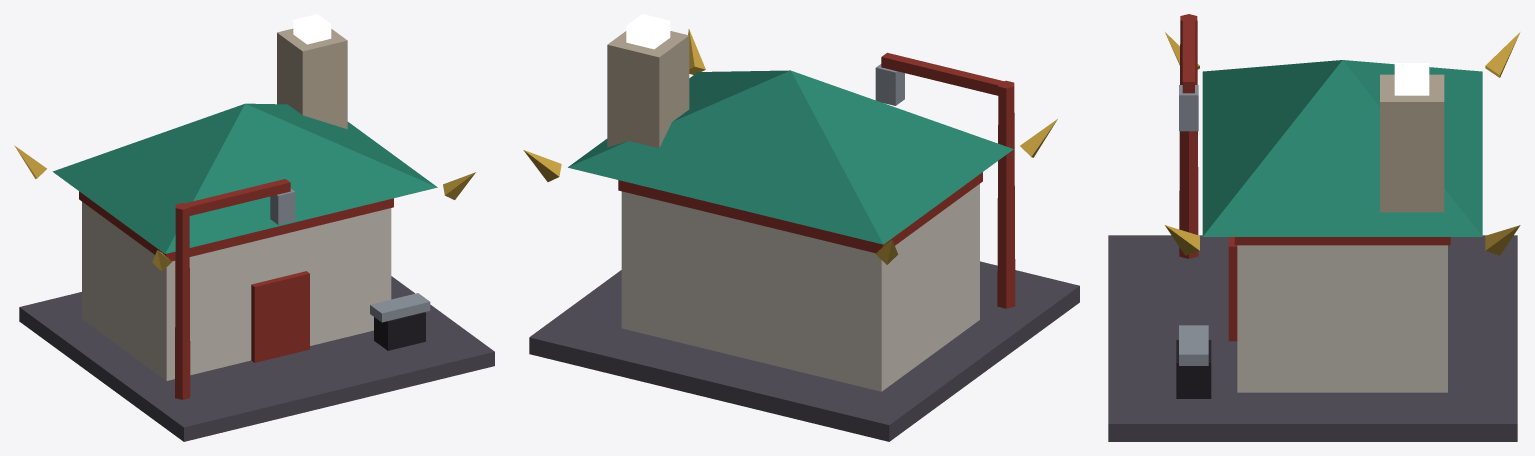
File: workshop_t2.glb
3 views of the same model, side by side, from view 1: azimuth 30°, elevation 25°; view 2: azimuth 150°, elevation 25°; view 3: azimuth 270°, elevation 25° (orthographic). The views are drawn at different scales.
Visible parts, largest first — view 1: body, glow; view 2: body, glow; view 3: body, glow.
Boxes of the visible parts, <box> form: body: <box>14,28,494,441</box>; glow: <box>293,14,331,44</box>; body: <box>523,29,1079,441</box>; glow: <box>626,14,670,49</box>; body: <box>1108,14,1520,441</box>; glow: <box>1394,63,1429,95</box>.
Size of the model in its own units: 1.85 by 1.49 by 1.66.
